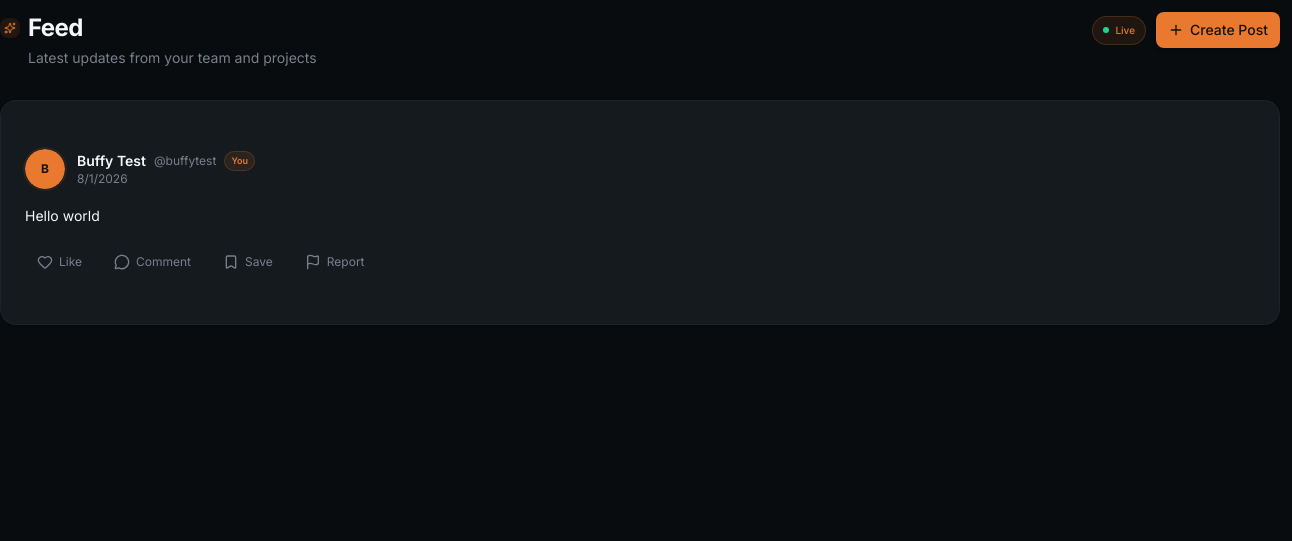
Test case: Feed › loads and adds comments
Expected: the text "Hello world" is shown, [25,207,100,224]
Open comments
Step 1. Click the button with aria-label "Toggle comments" → [152, 262], box [102,248,203,276]
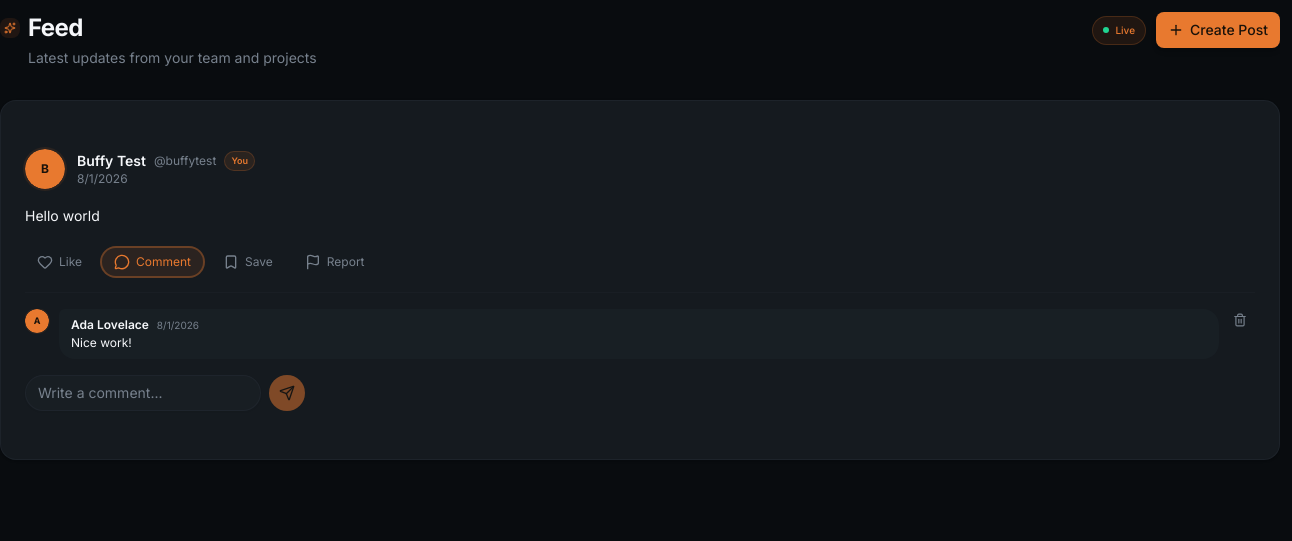
Now the text "Nice work!" is shown, box [71,335,132,350]
Add a comment
Step 2. Type "Thanks!" into the field with placeholder "Write a comment..." → [143, 393], box [25,375,261,411]
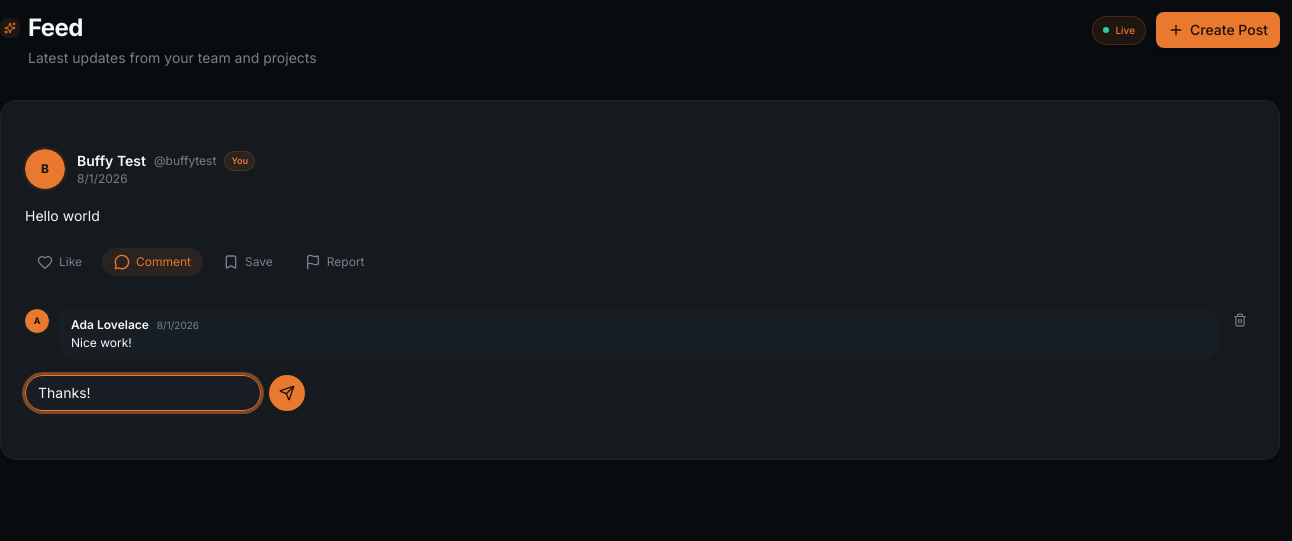
Step 3. Click the button named "Send comment" → [287, 393], box [269,375,305,411]
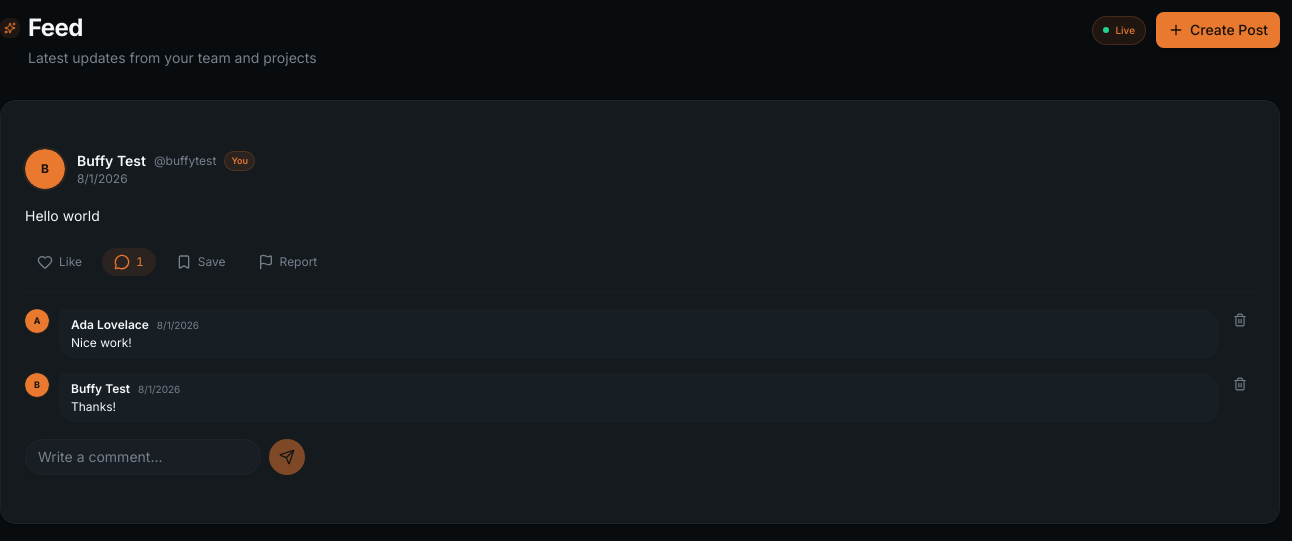
Now the text "Thanks!" is shown, box [71,399,116,414]
